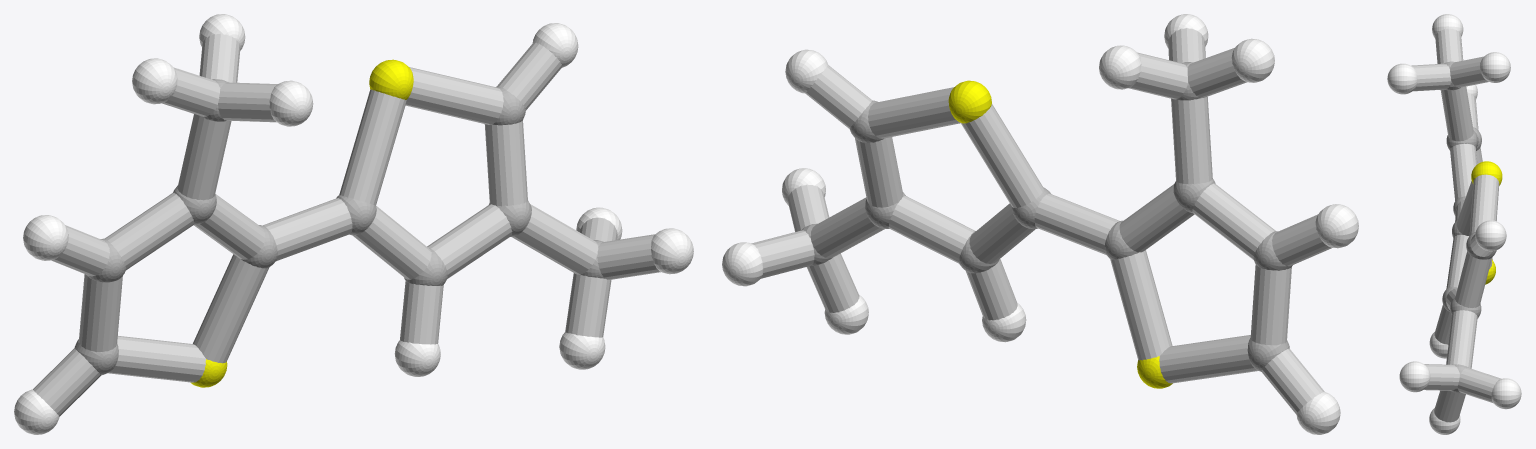
The model's file is Methylthiophene_Phi_5_Theta_340_Methylthiophene.glb.
3 renders of one model, left to right at view 1: azimuth 30°, elevation 25°; view 2: azimuth 150°, elevation 25°; view 3: azimuth 270°, elevation 25°, orthographic. The views are drawn at different scales.
Parts seen in each view (by area): view 1: grp7965, grp3621, grp1, grp7241; view 2: grp7965, grp3621, grp1, grp7241; view 3: grp7965, grp3621, grp1, grp7241.
Boxes of the visible parts, bbox=[...] form: grp7965: bbox=[33, 33, 660, 416]; grp3621: bbox=[14, 14, 693, 434]; grp1: bbox=[74, 79, 604, 374]; grp7241: bbox=[190, 59, 413, 387]; grp7965: bbox=[751, 28, 1332, 414]; grp3621: bbox=[722, 14, 1358, 434]; grp1: bbox=[801, 62, 1292, 371]; grp7241: bbox=[948, 80, 1172, 388]; grp7965: bbox=[1411, 28, 1501, 422]; grp3621: bbox=[1387, 14, 1521, 434]; grp1: bbox=[1442, 61, 1496, 393]; grp7241: bbox=[1471, 161, 1502, 284].
Size of the model in its own units: 9.46 by 5.87 by 2.57.
